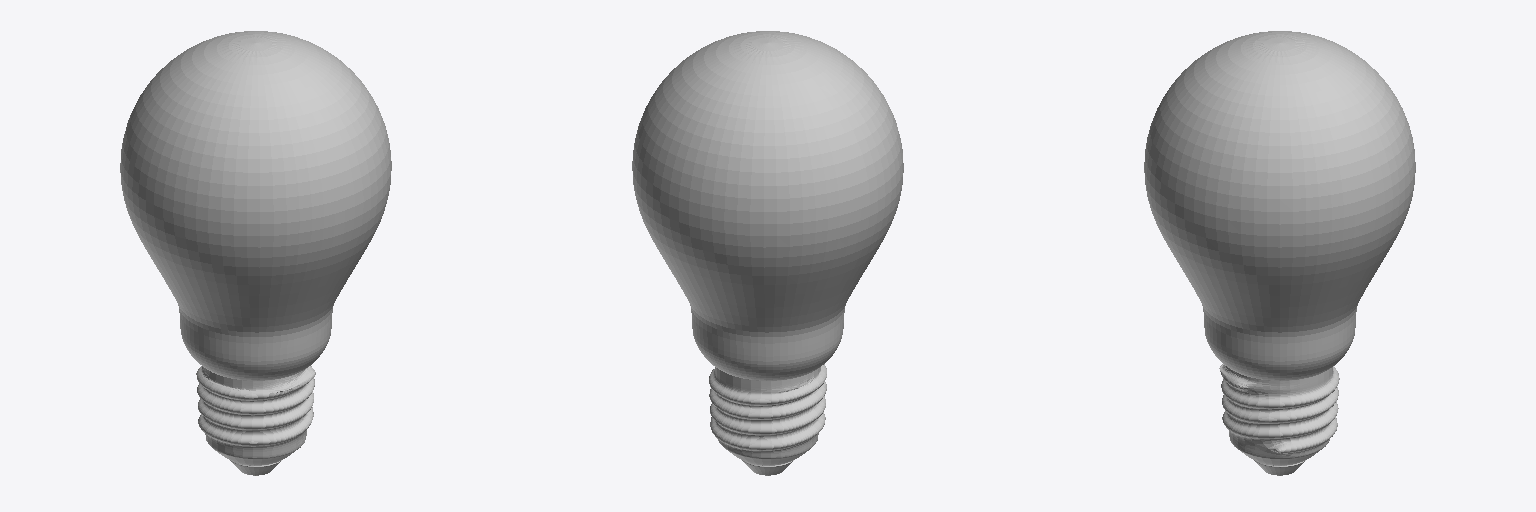
Rendered from bulb3.obj.
3 views of the same model, side by side, from view 1: azimuth 30°, elevation 25°; view 2: azimuth 150°, elevation 25°; view 3: azimuth 270°, elevation 25° (orthographic).
Visible parts, largest first — view 1: Sphere001, Cylinder004; view 2: Sphere001, Cylinder004; view 3: Sphere001, Cylinder004.
Boxes of the visible parts, <box> form: Sphere001: <box>120,31,391,380</box>; Cylinder004: <box>196,366,315,475</box>; Sphere001: <box>632,31,903,380</box>; Cylinder004: <box>709,364,826,475</box>; Sphere001: <box>1144,31,1415,380</box>; Cylinder004: <box>1219,364,1339,475</box>.
Bounding box in the file's own units: 6.62 × 11.46 × 6.62.